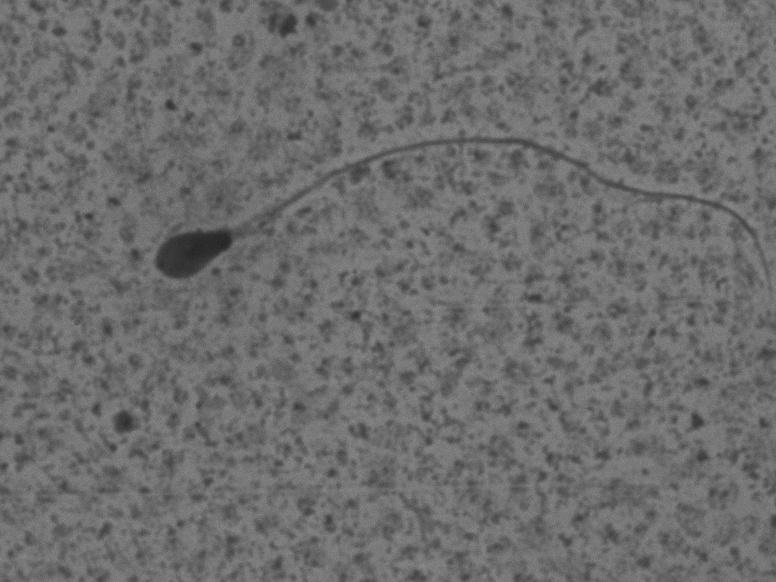Abnormal: (145, 103, 765, 351)
